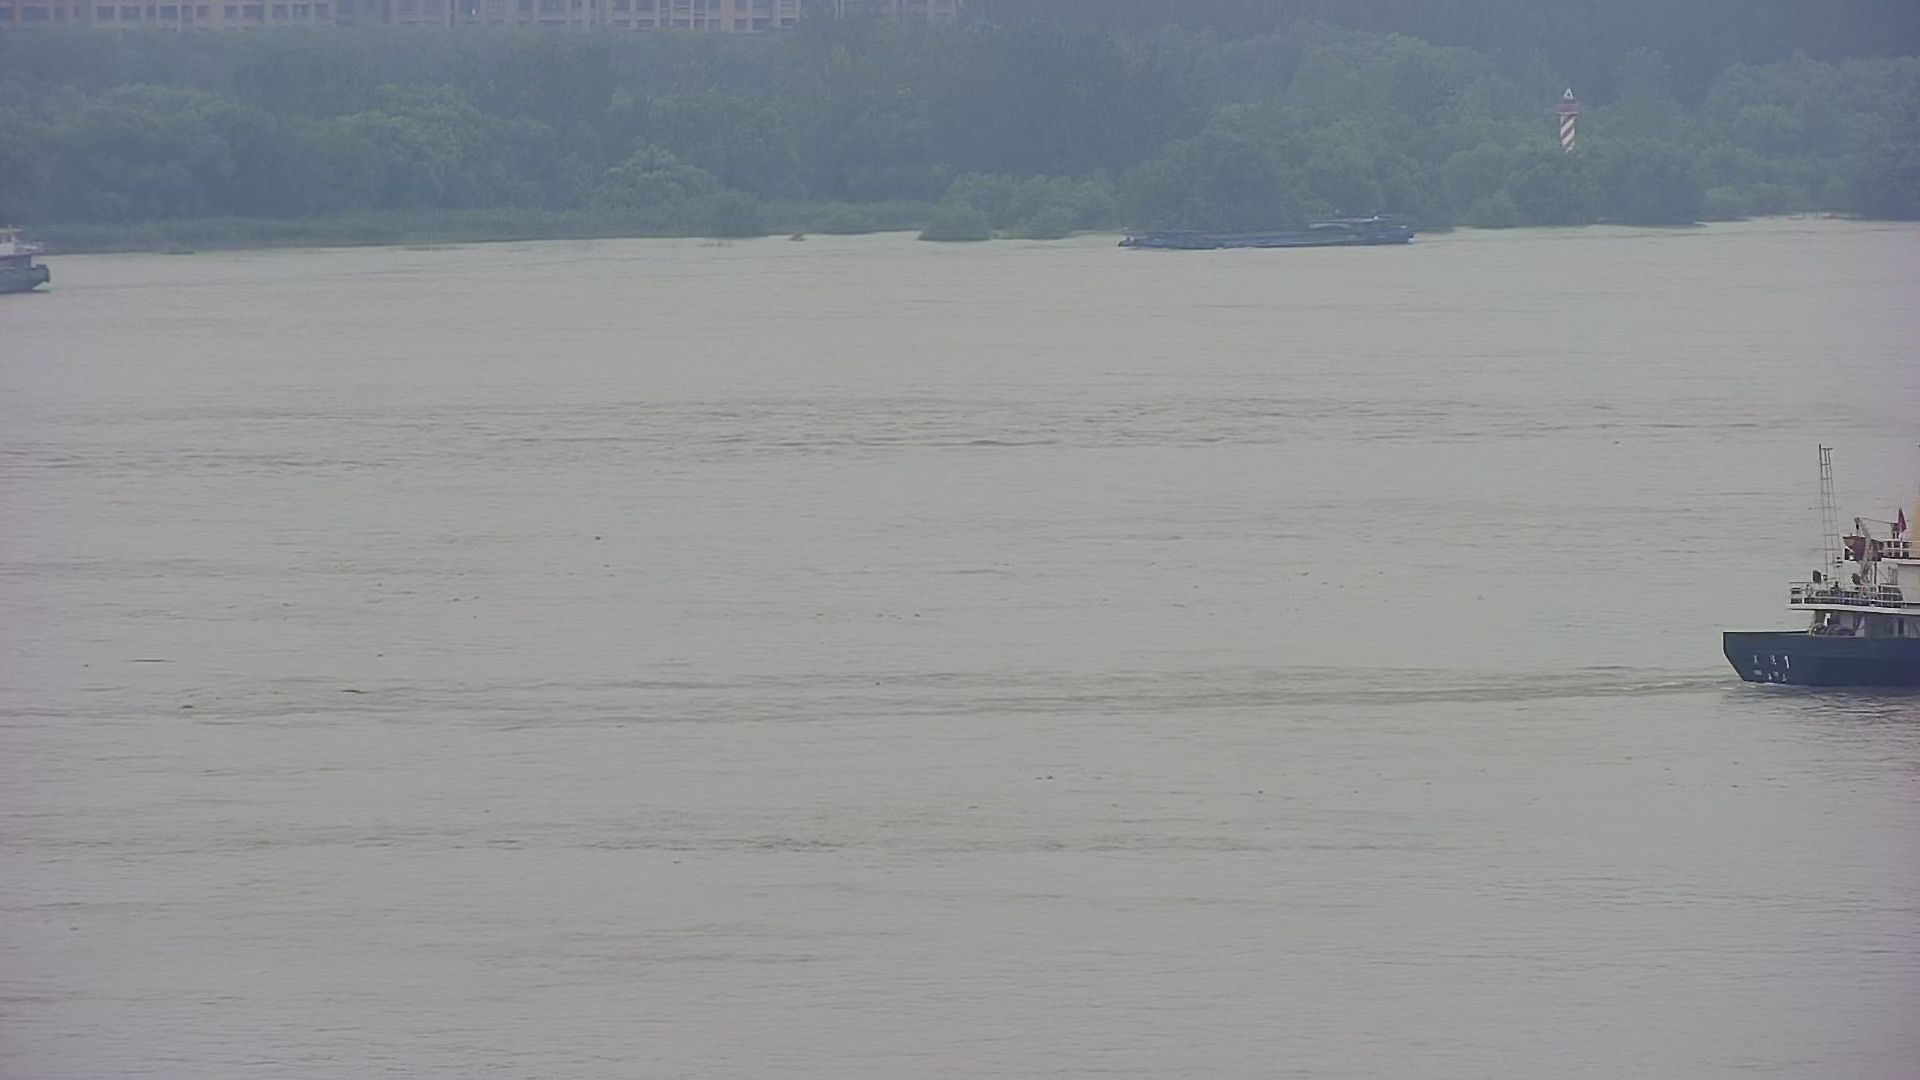boat: (1112, 198, 1433, 262)
ship: (1705, 427, 1920, 717)
